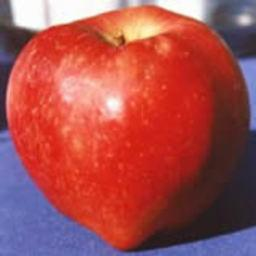apple: (2, 4, 252, 253)
